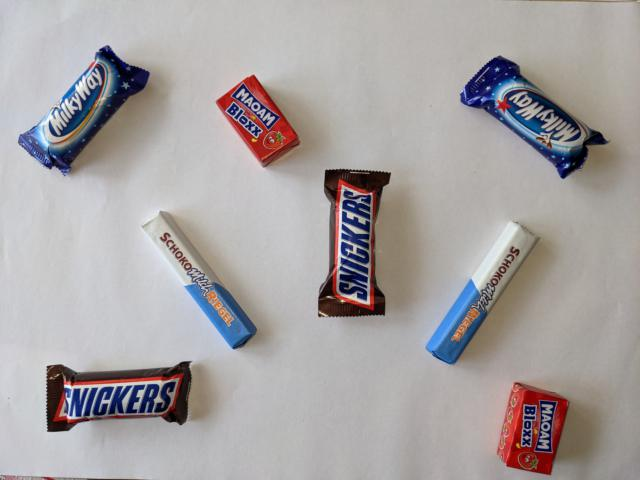MAOAM: (214, 73, 303, 170), (493, 380, 571, 476)
MilkyWay: (457, 53, 614, 181), (16, 44, 152, 179)
Schokoriegel: (422, 218, 540, 368), (137, 207, 258, 352)
Snickers: (314, 166, 392, 322), (43, 357, 195, 436)
